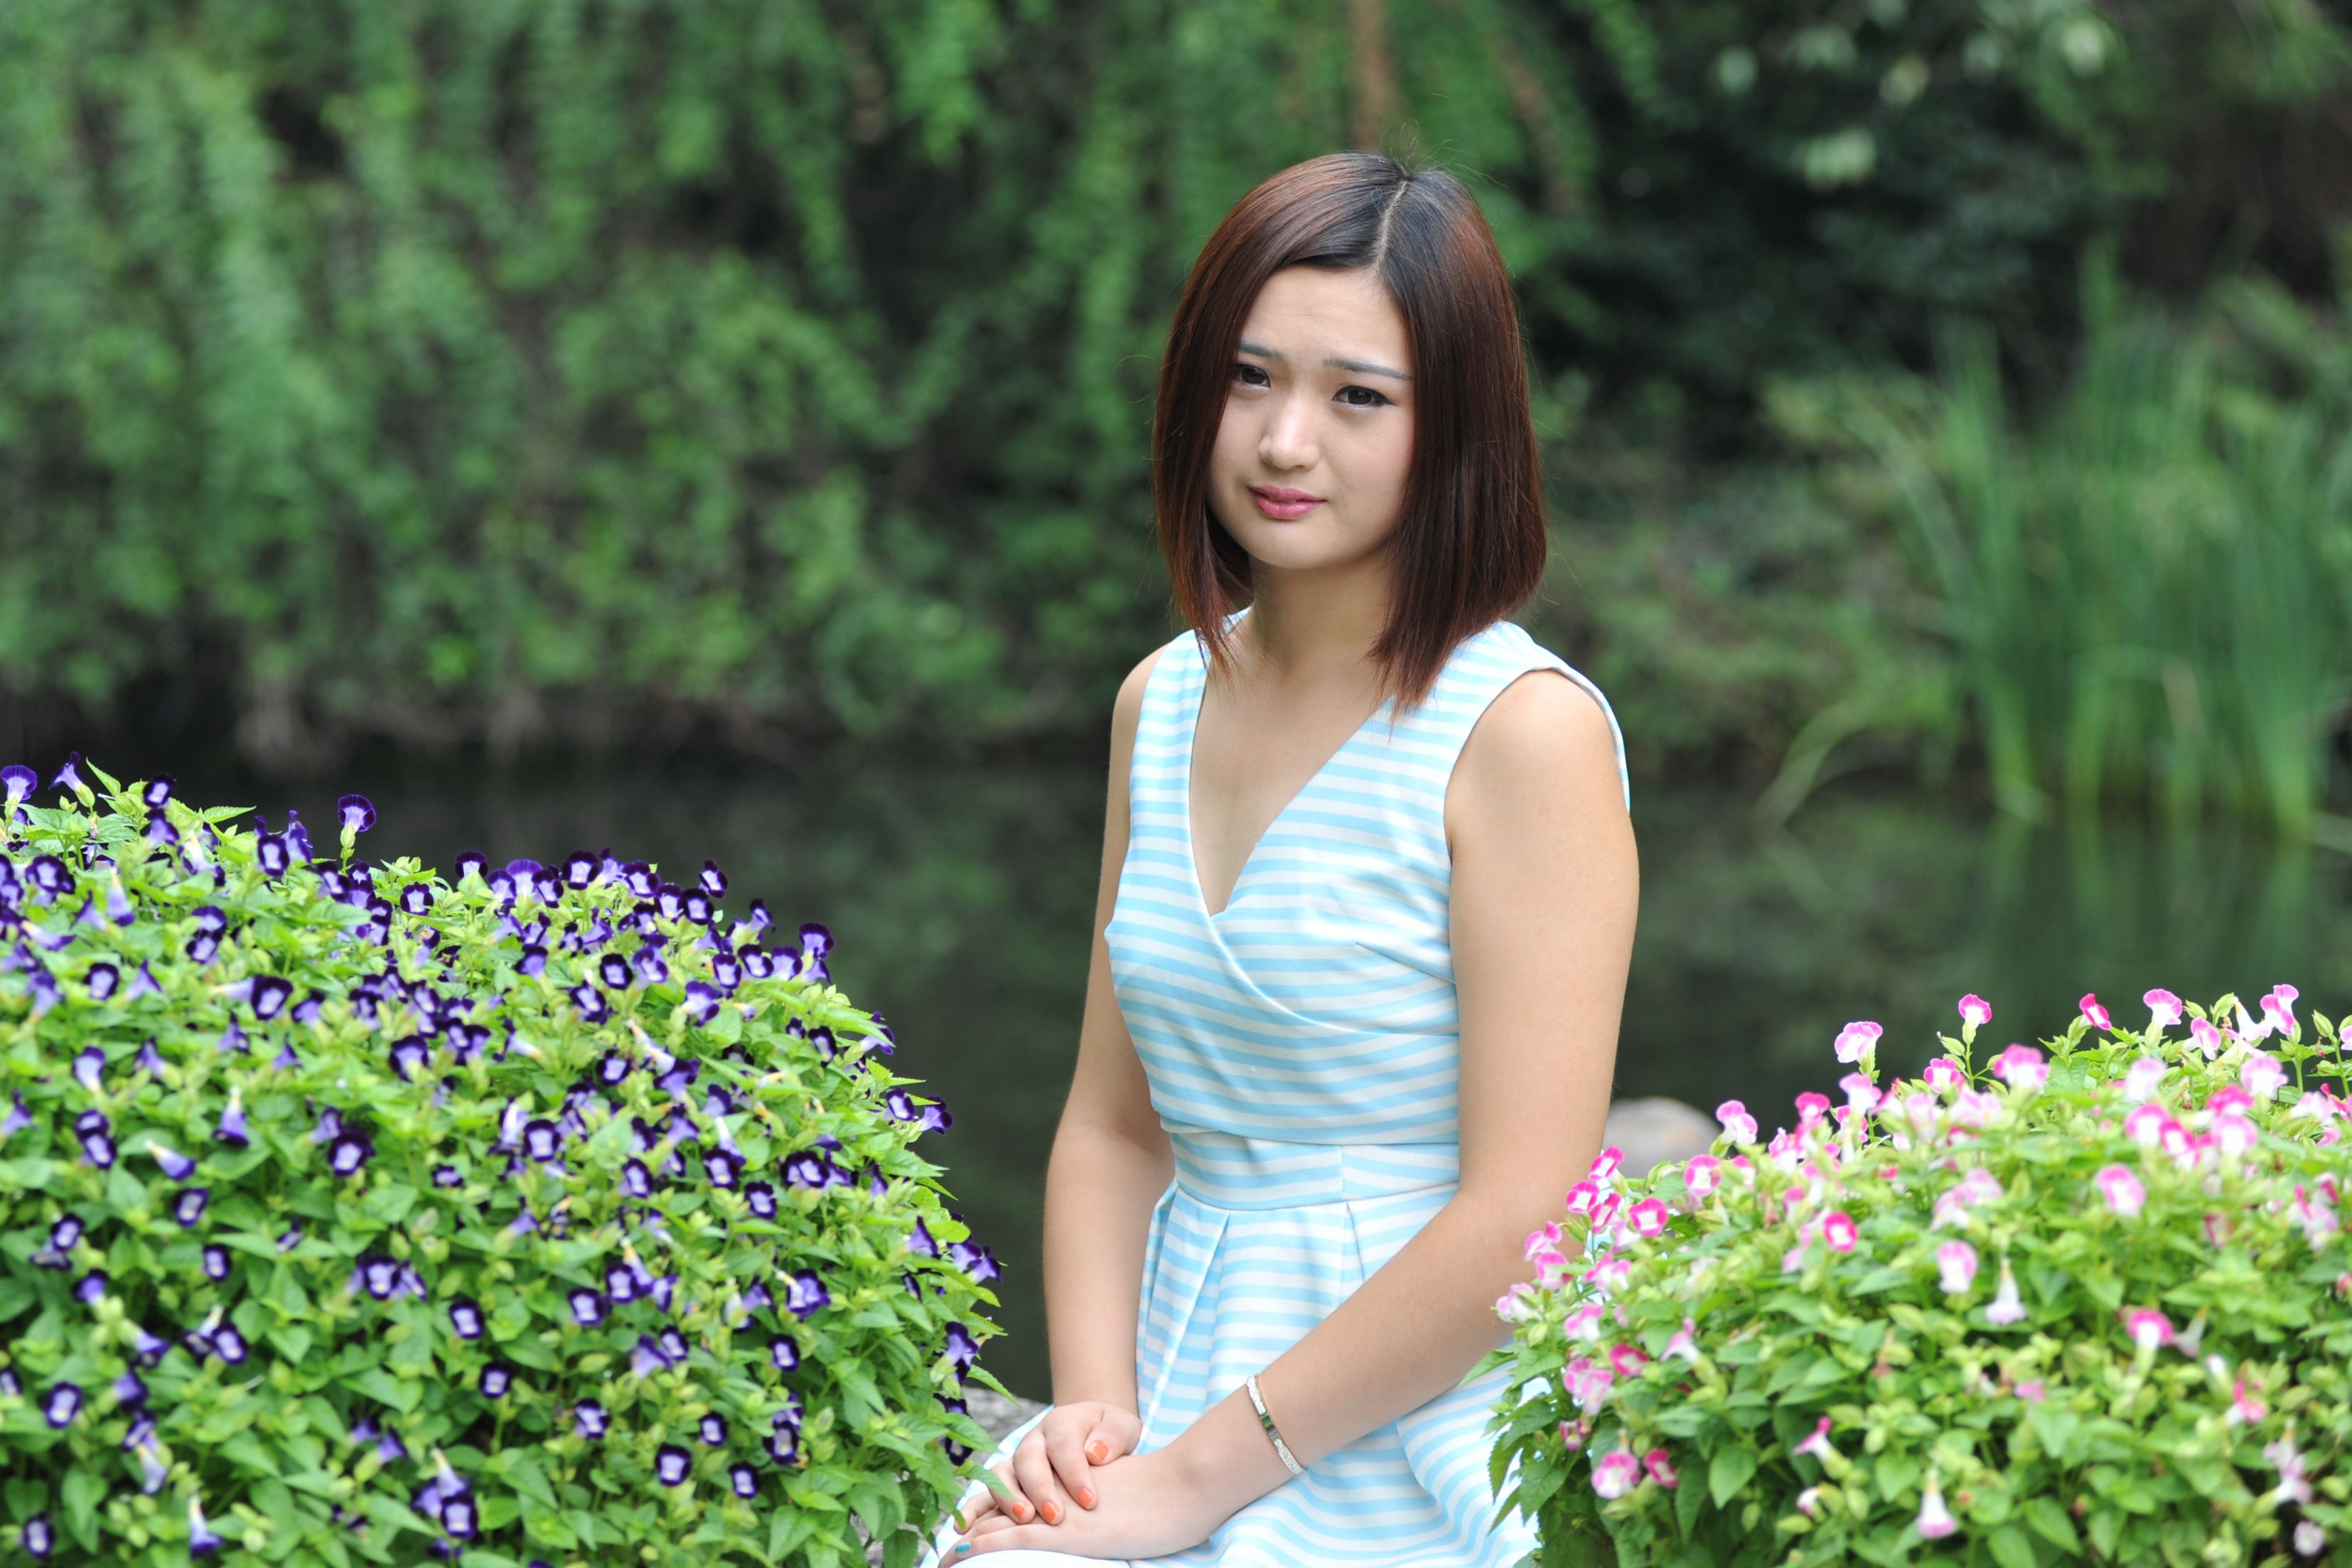person: (1001, 181, 1794, 1381)
